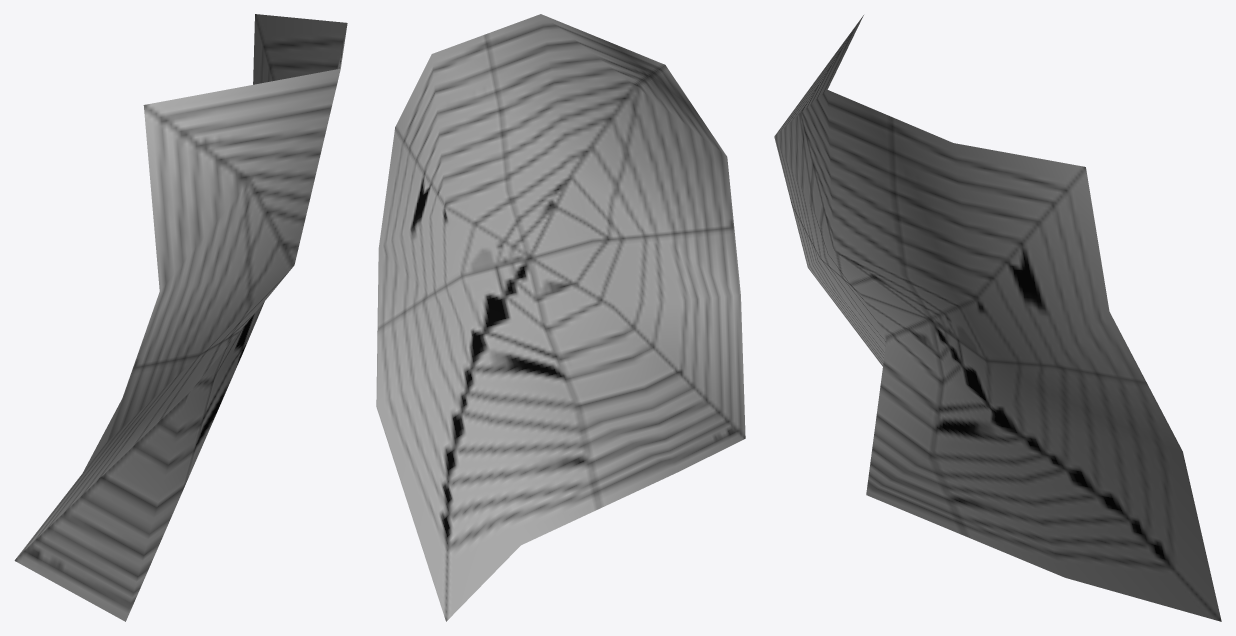
The model's file is a_spiderline02.glb.
3 views of the same model, side by side, from view 1: azimuth 30°, elevation 25°; view 2: azimuth 150°, elevation 25°; view 3: azimuth 270°, elevation 25° (orthographic). The views are drawn at different scales.
Parts seen in each view (by area): view 1: a_spiderline02; view 2: a_spiderline02; view 3: a_spiderline02.
Boxes of the visible parts, <box> form: a_spiderline02: <box>14,14,347,621</box>; a_spiderline02: <box>376,14,745,621</box>; a_spiderline02: <box>774,15,1221,621</box>.
Bounding box in the file's own units: 0.7985 × 1.25 × 0.8874.
1 material, 1 textured.
